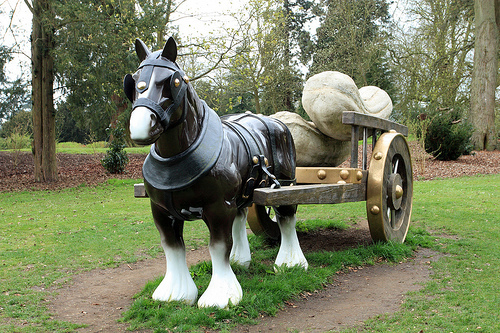background: (125, 35, 303, 310)
